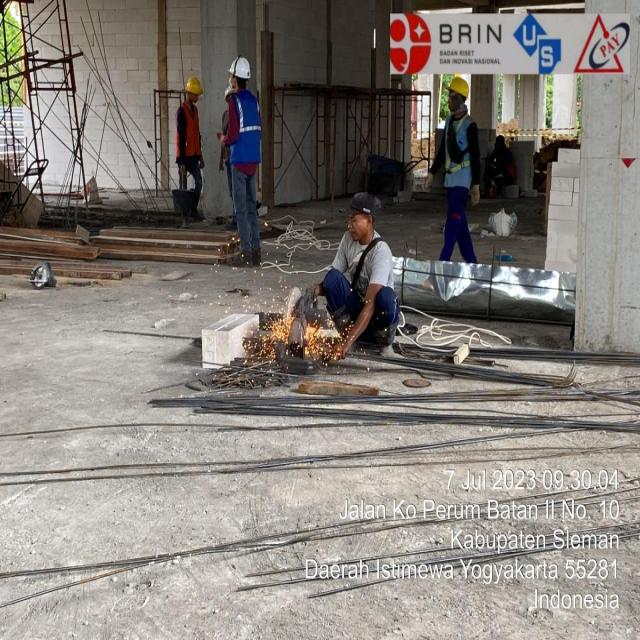Helmet: (424, 104, 498, 215), (328, 225, 406, 325), (338, 176, 396, 238), (438, 52, 486, 119), (218, 39, 262, 100), (175, 55, 207, 109)
Safety Vest: (216, 93, 278, 183), (166, 98, 208, 181)
